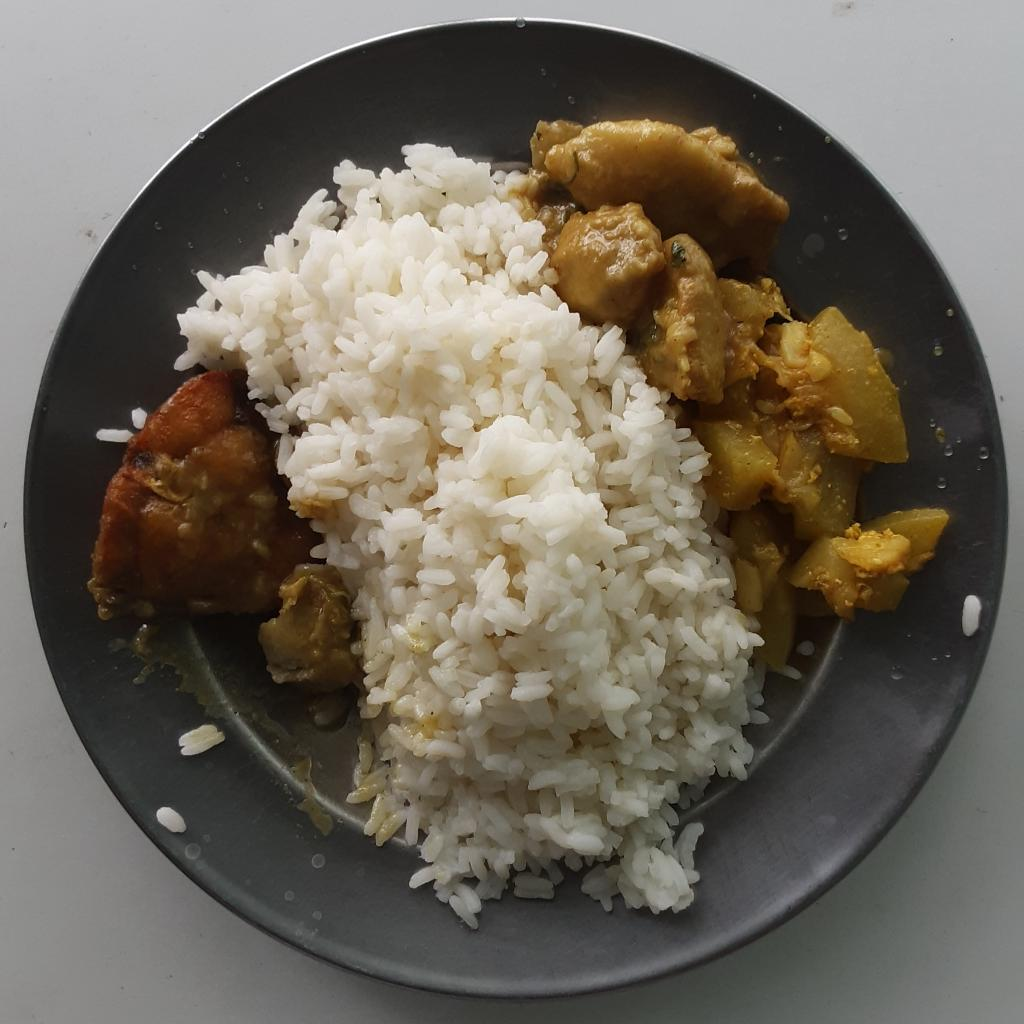fish: (83, 365, 331, 623)
kochu: (530, 121, 800, 395), (259, 572, 365, 689)
kumra-vaji: (664, 278, 951, 672)
rice: (172, 142, 768, 931)
